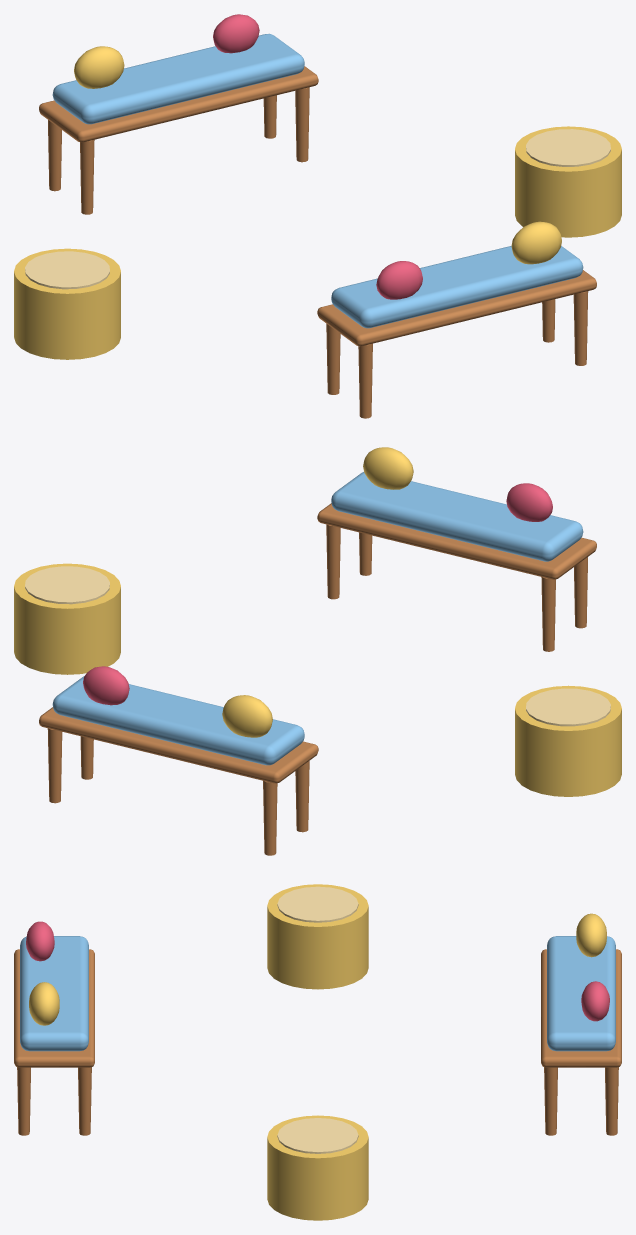
Rendered from kchair-bench.glb.
The picture shows the model from 3 angles, top to bottom: view 1: azimuth 30°, elevation 25°; view 2: azimuth 150°, elevation 25°; view 3: azimuth 270°, elevation 25°; orthographic projection. The views are drawn at different scales.
Bounding box in the file's own units: 3.2 × 0.724 × 3.
